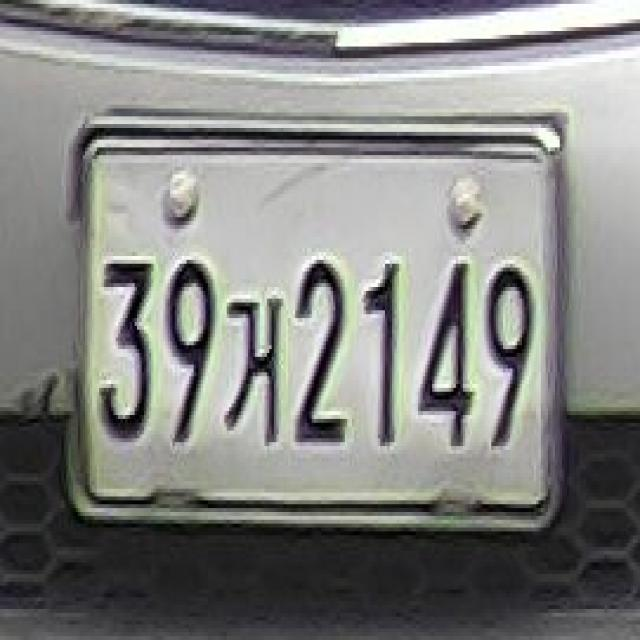1: (359, 260, 406, 454)
2: (291, 256, 347, 446)
3: (94, 256, 156, 442)
4: (413, 256, 472, 446)
9: (160, 252, 215, 442), (482, 256, 534, 454)
geo: (220, 287, 284, 446)
license_plate: (76, 136, 562, 524)
